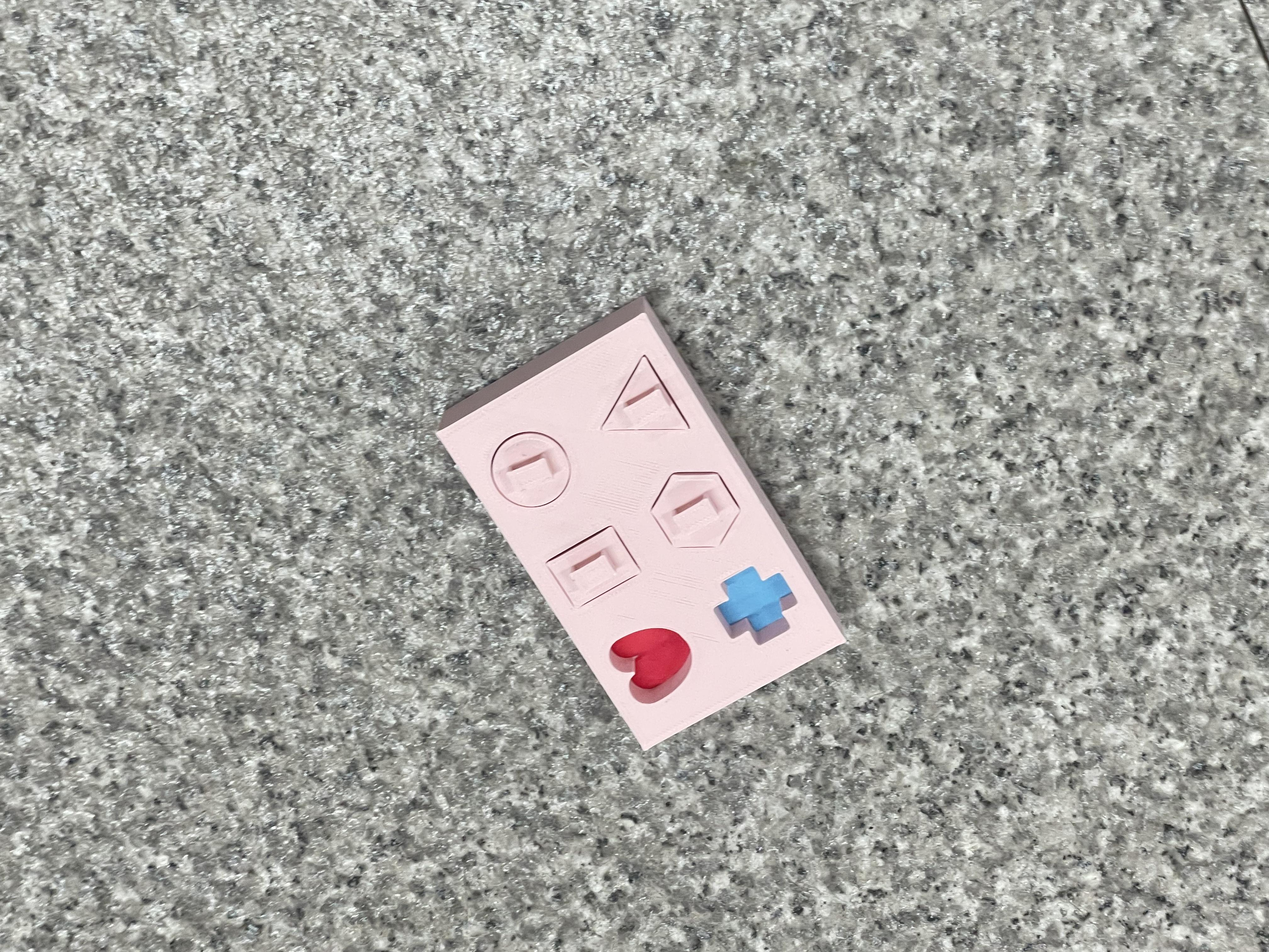unsolved: (434, 307, 858, 759)
